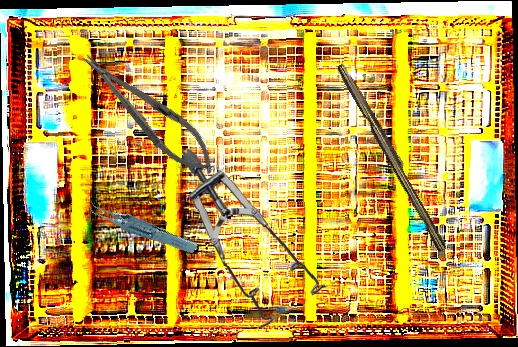Needle Holder: (71, 39, 227, 187)
Scalpel Handle: (333, 61, 453, 253)
Speculum: (182, 143, 327, 331)
Tissue Forceps: (84, 176, 199, 275)
